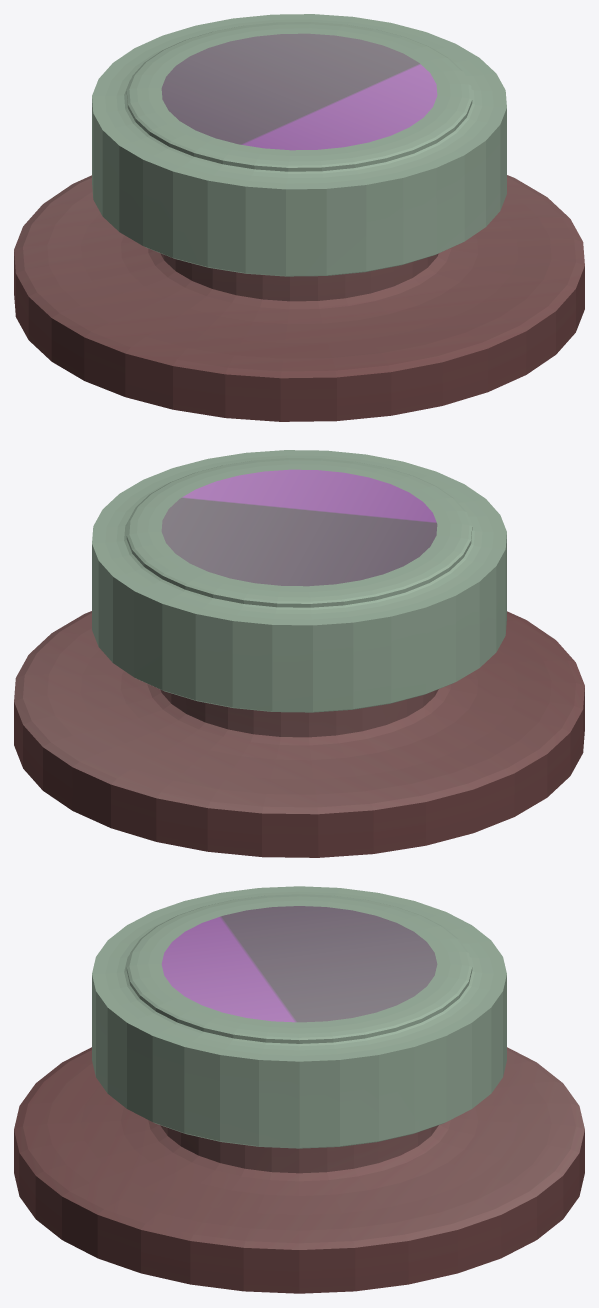
File: Trampolin con UV.fbx
3 views of the same model, one above another, from view 1: azimuth 30°, elevation 25°; view 2: azimuth 150°, elevation 25°; view 3: azimuth 270°, elevation 25° (orthographic).
Visible parts, largest first — view 1: Cylinder.001; view 2: Cylinder.001; view 3: Cylinder.001.
Part boxes in pixels (x1,y1,x2,y2): Cylinder.001: [14, 14, 584, 421]; Cylinder.001: [14, 450, 584, 857]; Cylinder.001: [14, 886, 584, 1293].
Size of the model in its own units: 200 by 80.73 by 200.
